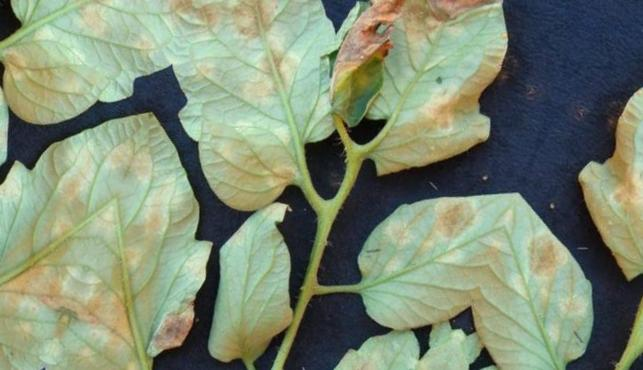Tomato mold leaf: (26, 59, 291, 370), (124, 0, 424, 250), (335, 131, 525, 361), (343, 0, 544, 209), (169, 193, 328, 370), (300, 260, 473, 370)
